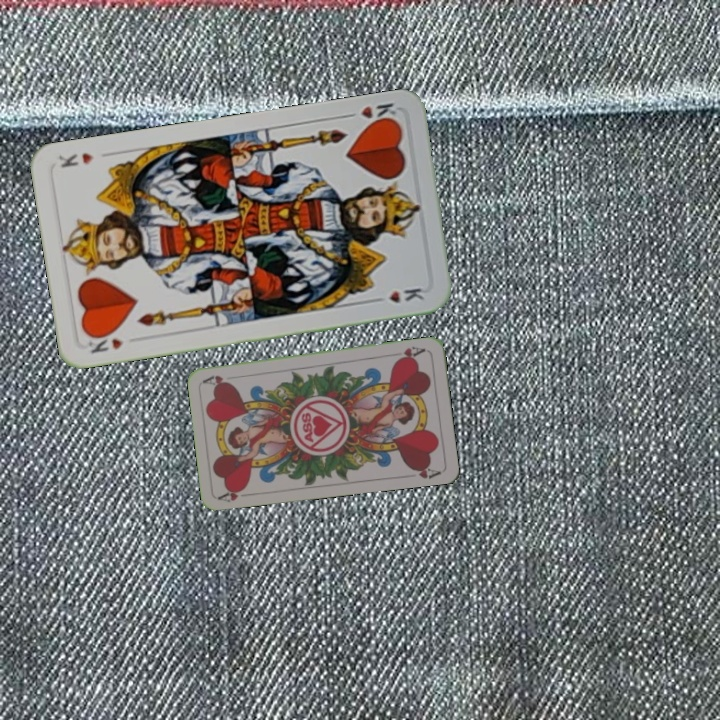HA: (388, 342, 428, 363), (215, 483, 248, 505)
HK: (340, 98, 399, 129), (84, 334, 126, 356)
